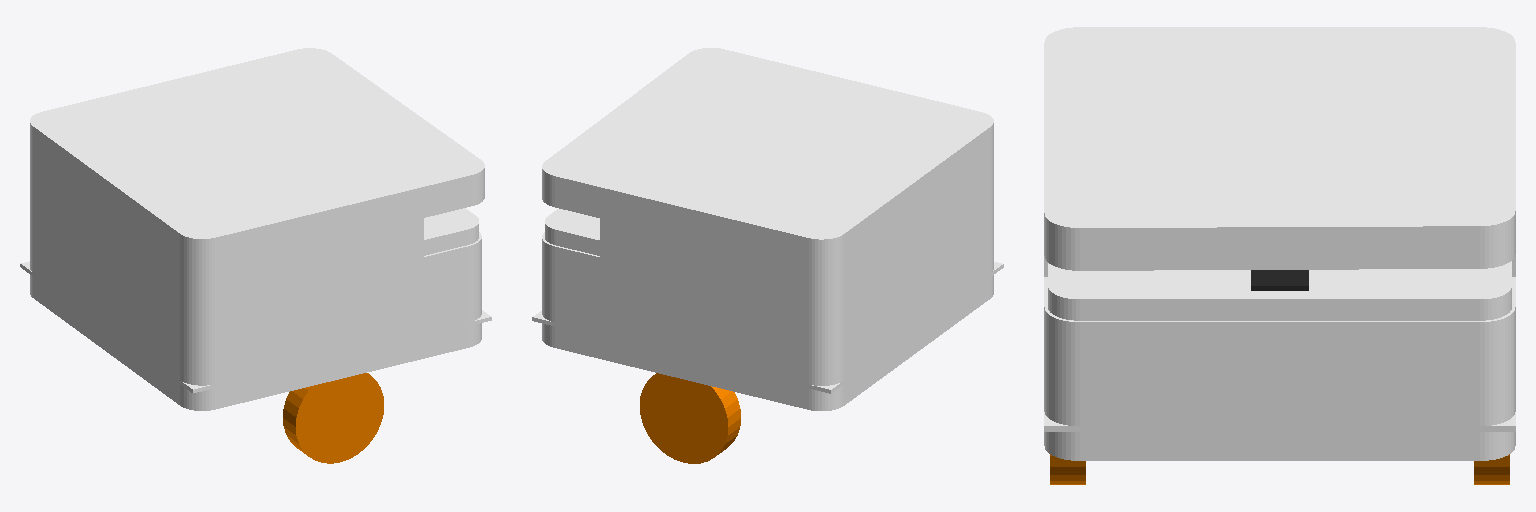
The robot description file, URDF, robot "box_robot":
<?xml version="1.0" ?>
<!-- =================================================================================== -->
<!-- |    This document was autogenerated by xacro from dashgobase_ao1.xacro           | -->
<!-- |    EDITING THIS FILE BY HAND IS NOT RECOMMENDED                                 | -->
<!-- =================================================================================== -->
<robot name="box_robot" xmlns:controller="http://playerstage.sourceforge.net/gazebo/xmlschema/#controller" xmlns:interface="http://playerstage.sourceforge.net/gazebo/xmlschema/#interface" xmlns:sensor="http://playerstage.sourceforge.net/gazebo/xmlschema/#sensor" xmlns:xacro="http://ros.org/wiki/xacro">
  <!--base_height/2+torso_height/2 -->
  <!-- Put all the color definitions in a separate file -->
  <material name="Black">
    <color rgba="0.2 0.2 0.2 1.0"/>
  </material>
  <material name="TransparentBlack">
    <color rgba="0.2 0.2 0.2 0.8"/>
  </material>
  <material name="Orange">
    <color rgba="1.0  0.55 0.0 1.0"/>
  </material>
  <material name="Grey">
    <color rgba="0.7 0.7 0.7 1.0"/>
  </material>
  <material name="DarkGrey">
    <color rgba="0.3 0.3 0.3 1.0"/>
  </material>
  <material name="Red">
    <color rgba="0.8 0.0 0.0 1.0"/>
  </material>
  <material name="White">
    <color rgba="1.0 1.0 1.0 1.0"/>
  </material>
  <material name="OffWhite">
    <color rgba="0.8 0.8 0.8 1.0"/>
  </material>
  <material name="Blue">
    <color rgba="0.0 0.0 0.8 1.0"/>
  </material>
  <material name="Green">
    <color rgba="0.0 0.8 0.0 1.0"/>
  </material>
  <material name="TransparentGreen">
    <color rgba="0.0 0.8 0.0 0.5"/>
  </material>
  <link name="base_link">
    <inertial>
      <origin rpy="0 0 0" xyz="0 0 0"/>
      <mass value="1.3729096e+00"/>
      <inertia ixx="8.7002718e-03" ixy="-4.7576583e-05" ixz="1.1160499e-04" iyy="8.6195418e-03" iyz="-3.5422299e-06" izz="1.4612727e-02"/>
    </inertial>
    <visual>
      <origin rpy="0.0 0 0" xyz="0 0 0"/>
      <geometry>
        <mesh filename="package://description/meshes/base2.dae"/>
      </geometry>
    </visual>
    <visual>
      <origin rpy="0 0 0" xyz="0 0 0"/>
      <geometry>
        <box size="0.40 0.40 0.005"/>
      </geometry>
      <material name="White"/>
    </visual>
    <collision>
      <origin rpy="0 0 0" xyz="0 0 0"/>
      <geometry>
        <cylinder length="0.15" radius="0.18"/>
      </geometry>
    </collision>
  </link>

  <link name="base_l_wheel_link">
    <inertial>
      <origin xyz="0 0 0"/>
      <mass value="2.8498940e-02"/>
      <inertia ixx="1.1175580e-05" ixy="-4.2369783e-11" ixz="-5.9381719e-09" iyy="1.1192413e-05" iyz="-1.4400107e-11" izz="2.0712558e-05"/>
    </inertial>
    <visual>
      <origin rpy="0 0 0" xyz="0 0 0"/>
      <geometry>
        <cylinder length="0.03" radius="0.0595"/>
      </geometry>
      <material name="Orange"/>
    </visual>
    <collision>
      <origin rpy="0 0 0" xyz="0 0 0"/>
      <geometry>
        <cylinder length="0.03" radius="0.0595"/>
      </geometry>
    </collision>
  </link>
  <joint name="base_l_wheel_joint" type="continuous">
    <!-- <safety_controller k_velocity="10"/> -->
    <origin rpy="1.5707963 0 0" xyz="0.0 0.18 -0.08"/>
    <parent link="base_link"/>
    <child link="base_l_wheel_link"/>
    <axis xyz="0 0 1"/>
    <limit effort="100" velocity="100"/>
  </joint>
 
  <link name="base_r_wheel_link">
    <inertial>
      <origin xyz="0 0 0"/>
      <mass value="2.8498940e-02"/>
      <inertia ixx="1.1175580e-05" ixy="-4.2369783e-11" ixz="-5.9381719e-09" iyy="1.1192413e-05" iyz="-1.4400107e-11" izz="2.0712558e-05"/>
    </inertial>
    <visual>
      <origin rpy="0 0 0" xyz="0 0 0"/>
      <geometry>
        <cylinder length="0.03" radius="0.0595"/>
      </geometry>
      <material name="Orange"/>
    </visual>
    <collision>
      <origin rpy="0 0 0" xyz="0 0 0"/>
      <geometry>
        <cylinder length="0.03" radius="0.0595"/>
      </geometry>
    </collision>
  </link>
  <joint name="base_r_wheel_joint" type="continuous">
    <!-- <safety_controller k_velocity="10"/> -->
    <origin rpy="-1.5707963 0 0" xyz="0.0 -0.18 -0.08"/>
    <parent link="base_link"/>
    <child link="base_r_wheel_link"/>
    <axis xyz="0 0 1"/>
    <limit effort="100" velocity="100"/>
  </joint>

  <link name="base_imu_link">
    <visual>
      <origin rpy="0 0 0" xyz="0 0 0"/>
      <geometry>
        <box size="0.05 0.05 0.001"/>
      </geometry>
      <material name="Red"/>
    </visual>
  </link>
  <joint name="base_imu_joint" type="fixed">
    <origin rpy="0 0 1.57" xyz="0 0 0.05"/>
    <origin rpy="0 0 0" xyz="0.085 0.1 0.1"/>
    <parent link="base_link"/>
    <child link="base_imu_link"/>
  </joint>

  <link name="laser">
    <visual>
      <origin rpy="0 0 0" xyz="0 0 0"/>
      <geometry>
        <box size="0.05 0.05 0.05"/>
      </geometry>
      <material name="Black"/>
    </visual>
  </link>
  <joint name="top_t_laser" type="fixed">
    <origin rpy="0 0 0" xyz="0.155 0 0.1"/>
    <parent link="base_link"/>
    <child link="laser"/>
  </joint>
</robot>

--- What the picture shows (computed from the rendered views, not written in the file) ---
Views: 3 orthographic renders of the robot side by side, from view 1: azimuth 30°, elevation 25°; view 2: azimuth 150°, elevation 25°; view 3: azimuth 270°, elevation 25°.
Model box_robot with 5 links and 4 joints (2 continuous, 2 fixed), rooted at base_link, posed all joints at 0.
Links seen in each view (by area): view 1: base_link, base_r_wheel_link; view 2: base_link, base_l_wheel_link; view 3: base_link, laser, base_l_wheel_link, base_r_wheel_link.
Boxes of the visible links, x1,y1,x2,y2 form: base_link: (20,48,491,410); base_r_wheel_link: (283,373,383,463); base_link: (532,48,1003,410); base_l_wheel_link: (640,373,740,463); base_link: (1044,27,1515,460); laser: (1251,270,1308,290); base_l_wheel_link: (1474,454,1509,484); base_r_wheel_link: (1050,454,1085,484).
Bounding box of the posed robot: 0.4039 × 0.4 × 0.3295 m (x, y, z).
Meshes: 1 distinct files referenced, 1 mesh visuals loaded (1 Collada DAE).
